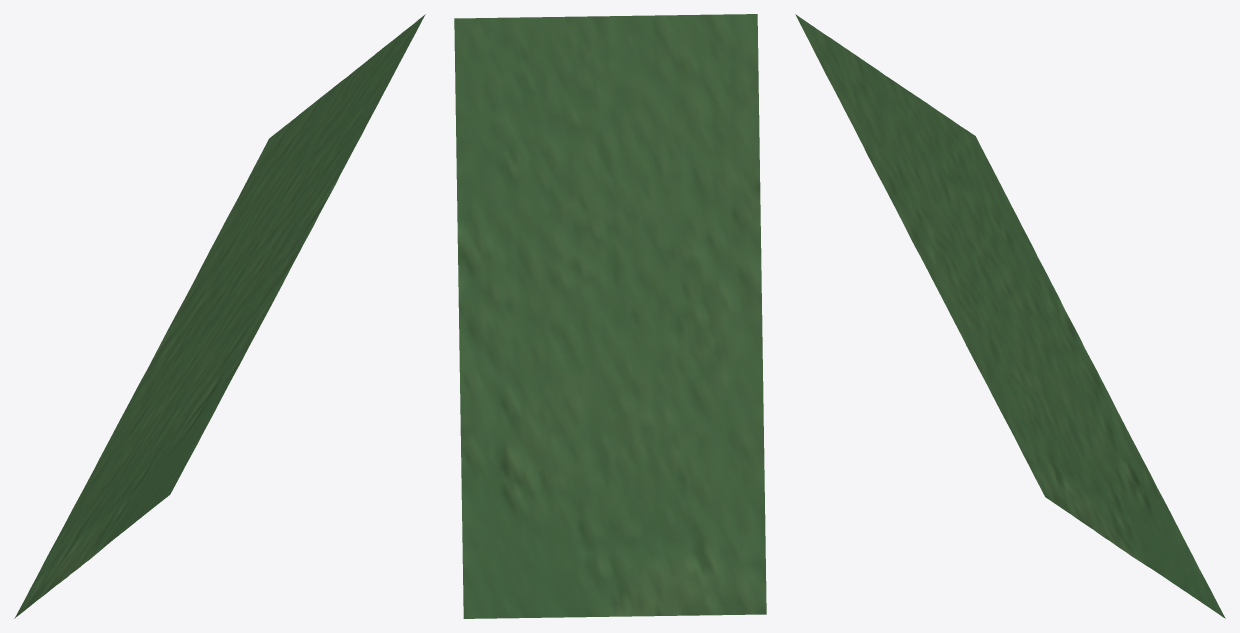
3 renders of one model, left to right at view 1: azimuth 30°, elevation 25°; view 2: azimuth 150°, elevation 25°; view 3: azimuth 270°, elevation 25°, orthographic. The views are drawn at different scales.
Bounding box in the file's own units: 9829 × 13397 × 9517.
